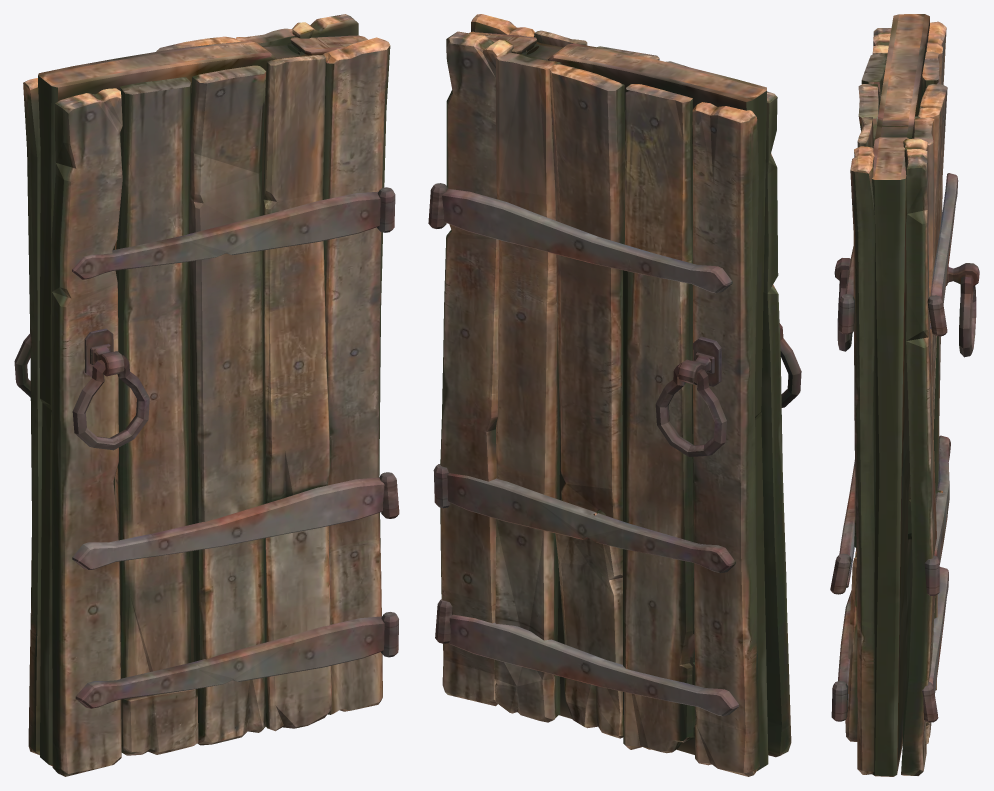
The picture shows the model from 3 angles, left to right: view 1: azimuth 30°, elevation 25°; view 2: azimuth 150°, elevation 25°; view 3: azimuth 270°, elevation 25°; orthographic projection. The views are drawn at different scales.
Parts seen in each view (by area): view 1: SM_BB_T3_Door_LOD0; view 2: SM_BB_T3_Door_LOD0; view 3: SM_BB_T3_Door_LOD0.
Boxes of the visible parts, left/top/right/bottom form: SM_BB_T3_Door_LOD0: left=14, top=14, right=399, bottom=776; SM_BB_T3_Door_LOD0: left=428, top=14, right=801, bottom=776; SM_BB_T3_Door_LOD0: left=830, top=14, right=979, bottom=776.
Size of the model in its own units: 1.29 by 2.59 by 0.5607.
1 material, 1 textured.
